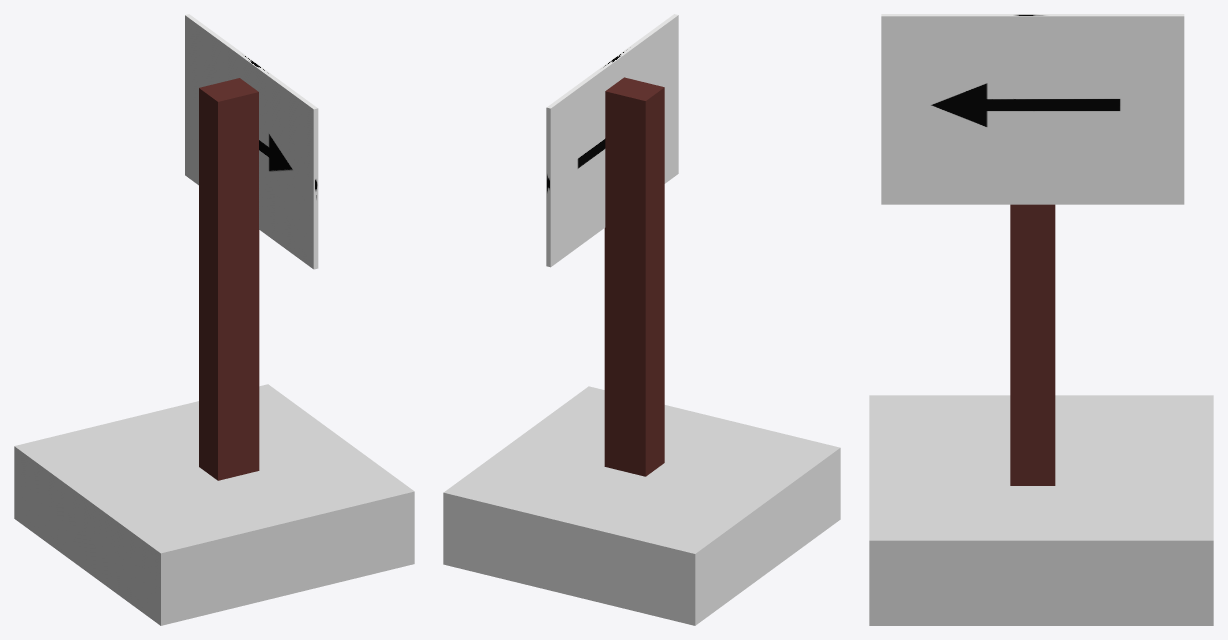
The model's file is placard2.dae.
The picture shows the model from 3 angles, left to right: view 1: azimuth 30°, elevation 25°; view 2: azimuth 150°, elevation 25°; view 3: azimuth 270°, elevation 25°; orthographic projection. The views are drawn at different scales.
Visible parts, largest first — view 1: Cube.006; view 2: Cube.006; view 3: Cube.006.
Boxes of the visible parts, bbox=[...] form: Cube.006: bbox=[14, 14, 414, 625]; Cube.006: bbox=[443, 14, 840, 625]; Cube.006: bbox=[869, 14, 1213, 625].
Size of the model in its own units: 1.14 by 1.14 by 2.03.
Materials: 3 (1 with a texture image).
